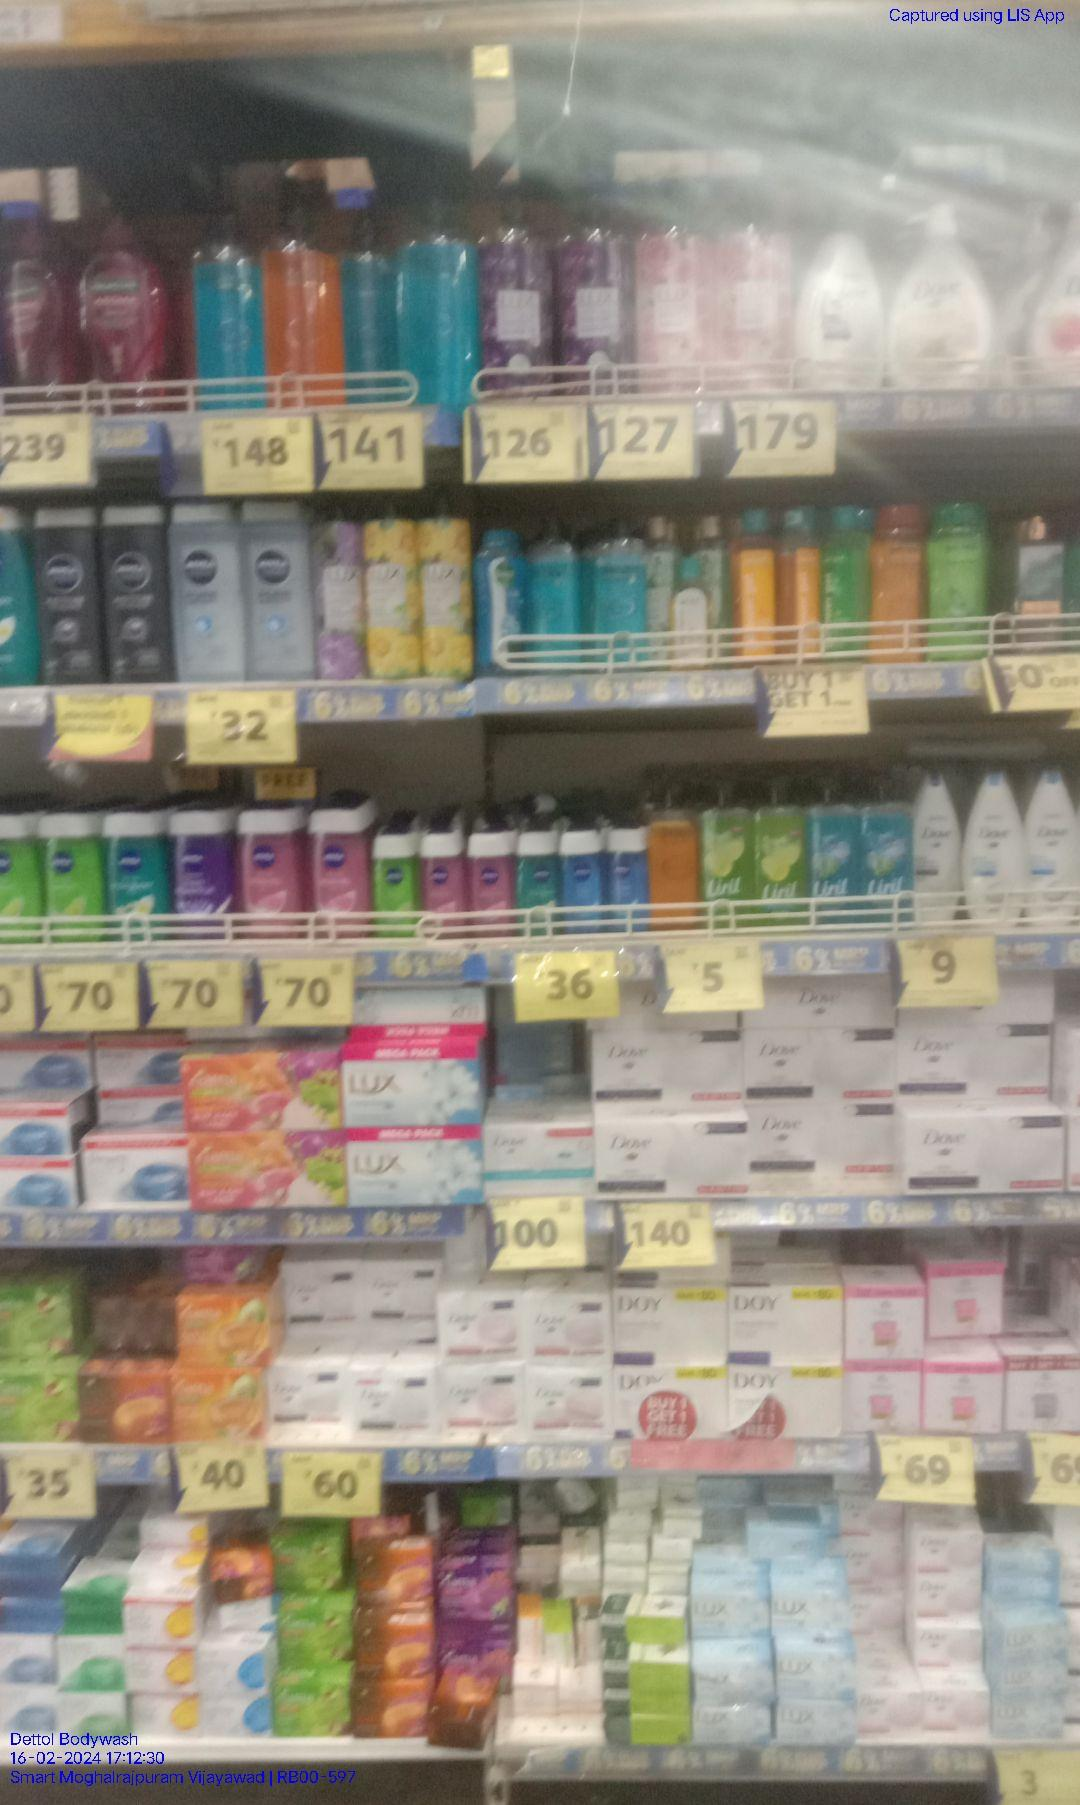Dettol_Bodywash_Cool: (474, 526, 523, 671)
Dove_Deep_Moisture_Body_Wash_250ML: (918, 762, 958, 928)
Dove_Gentle_Exfoliating_Body_Wash_250ML: (960, 768, 1022, 923), (1026, 769, 1079, 919)
Get_Real_Shower_Gel_Moisturising_Glycerin_300ML: (873, 507, 926, 669)
Liril_Cooling_Mint_Body_Wash_250ML: (814, 766, 860, 932), (863, 769, 913, 922)
Liril_Lime_and_Tea_Tree_Oil_Body_Wash_250ML: (757, 780, 810, 929), (705, 787, 753, 929)
Nivea_Shower_Gel_Frangipani_and_Oil_250ML: (107, 819, 171, 941)
Nivea_Shower_Gel_Fresh_Powerfruit_250ML: (177, 816, 233, 940)
Nivea_Shower_Gel_Lemon_and_Oil_250ML: (44, 815, 103, 940), (0, 819, 41, 944)
Nivea_Shower_Gel_Waterlily_and_Oil_250ML: (239, 815, 306, 936), (312, 814, 369, 932)
Pears_Pure_Glycerin_and_Mint_Extracts_Body_Wash_250ML: (527, 512, 585, 675), (591, 519, 649, 671)
